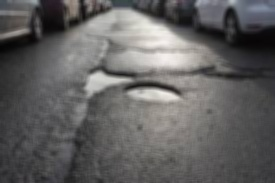pothole: (76, 65, 131, 98), (122, 84, 180, 102)
